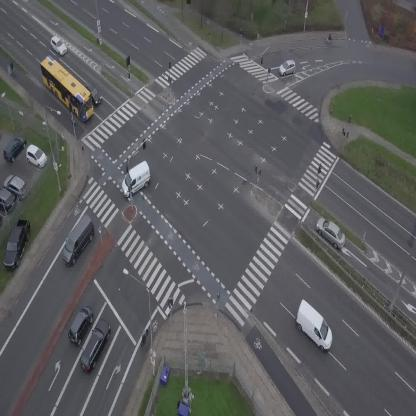bicycle: (138, 328, 150, 348), (324, 33, 336, 46), (8, 61, 17, 76)
bus: (32, 53, 103, 123)
car: (75, 317, 116, 375), (310, 213, 351, 252), (63, 303, 98, 348), (83, 81, 104, 107), (46, 35, 69, 58), (277, 58, 298, 77)
lorry: (285, 297, 341, 354), (54, 213, 103, 268), (114, 160, 158, 199)
